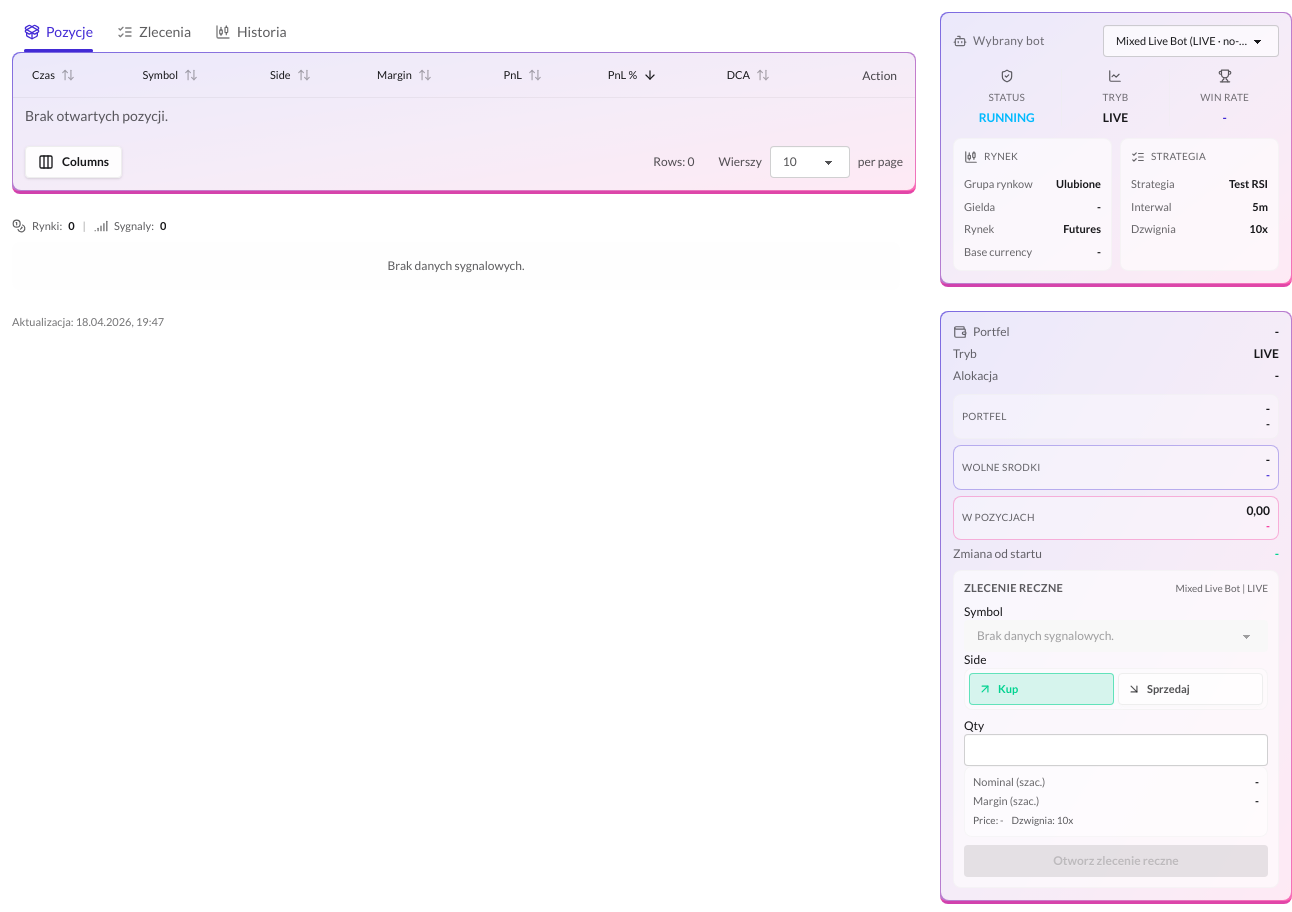
Scenario: HomeLiveWidgets › keeps mixed-mode selection stable and renders no-session degrade state for active bot
Expected: the text "Wybrany bot" is shown, [953,25,1279,57]
Select "Mixed Paper Bot (PAPER · no-wallet)" in the dropdown labelled "Wybrany bot" at point(1191, 41), box [1103,25,1279,57]
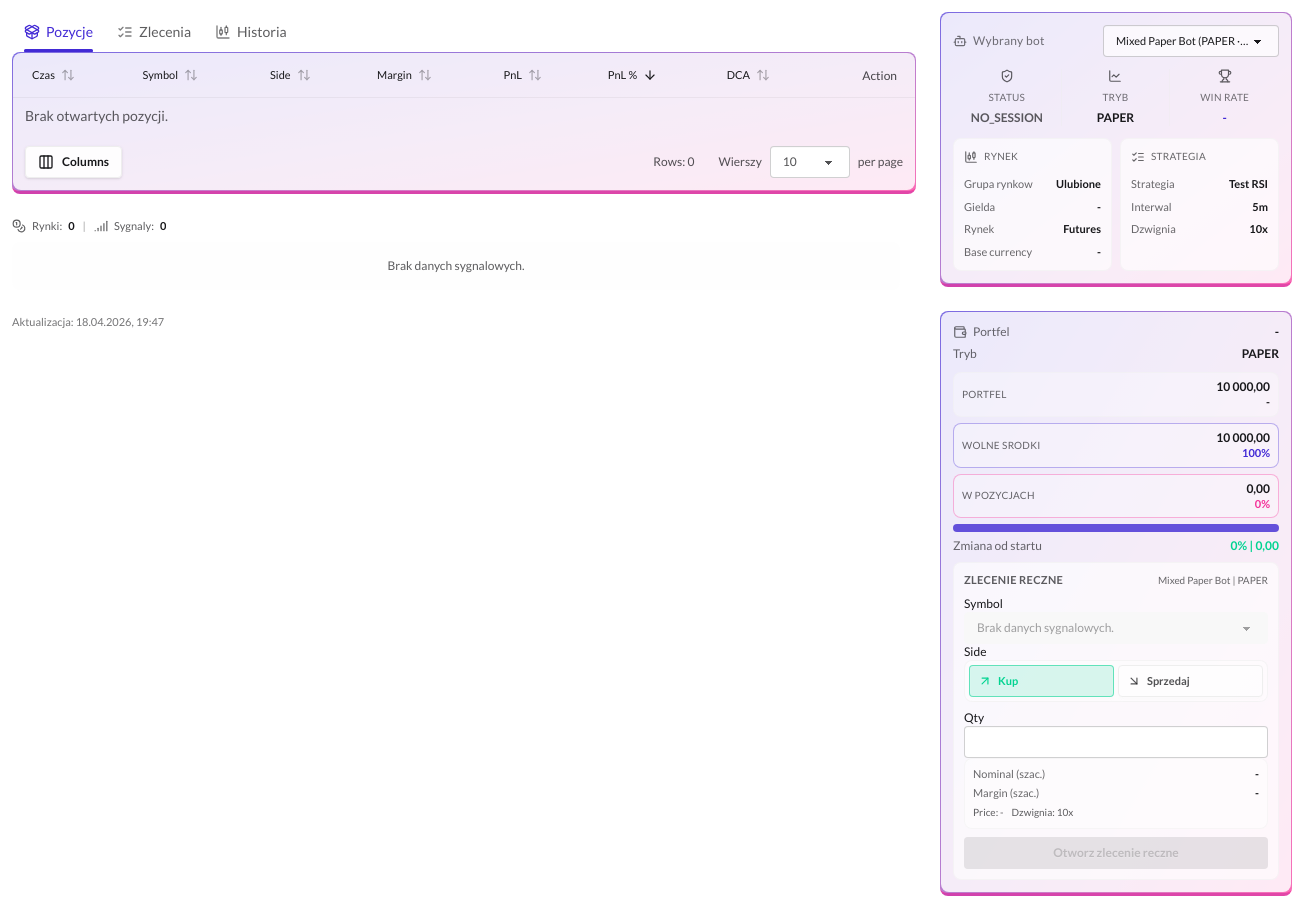
Now the text "NO_SESSION" is shown, box [971,110,1043,125]
Now the text "Mixed Paper Bot | PAPER" is shown, box [1158,574,1268,587]
Select "Mixed Live Bot (LIVE · no-wallet)" in the dropdown labelled "Wybrany bot" at point(1191, 41), box [1103,25,1279,57]
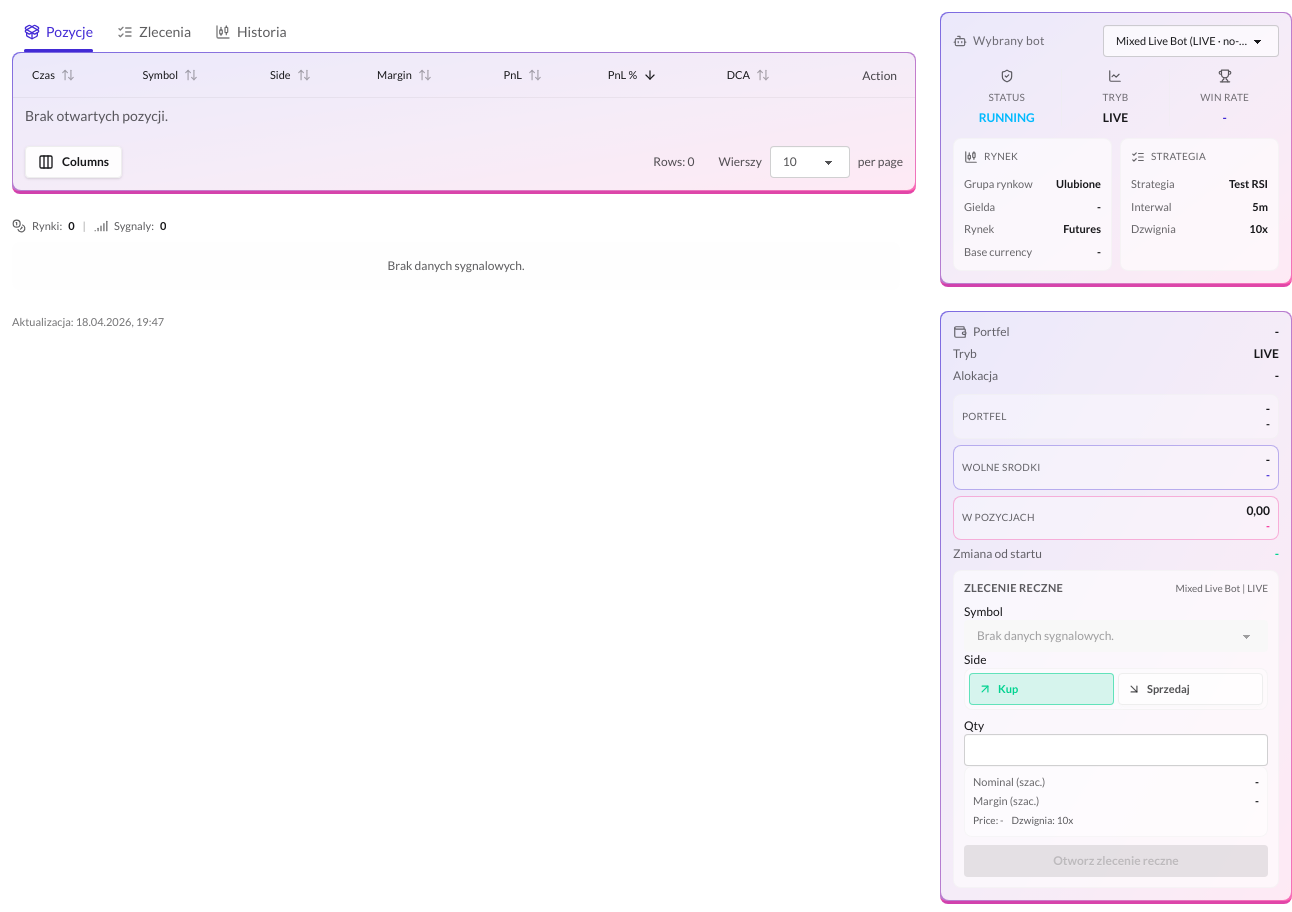
Now the text "RUNNING" is shown, box [979,110,1035,125]
Now the text "Mixed Live Bot | LIVE" is shown, box [1175,582,1268,595]
